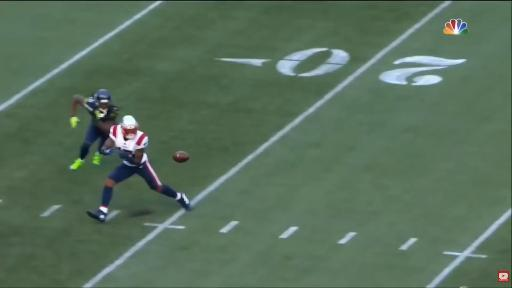Helmet: (121, 116, 138, 139), (94, 90, 110, 109)
Jersey: (110, 125, 148, 155), (84, 98, 118, 121)
Player: (87, 116, 191, 222), (70, 90, 118, 170)
